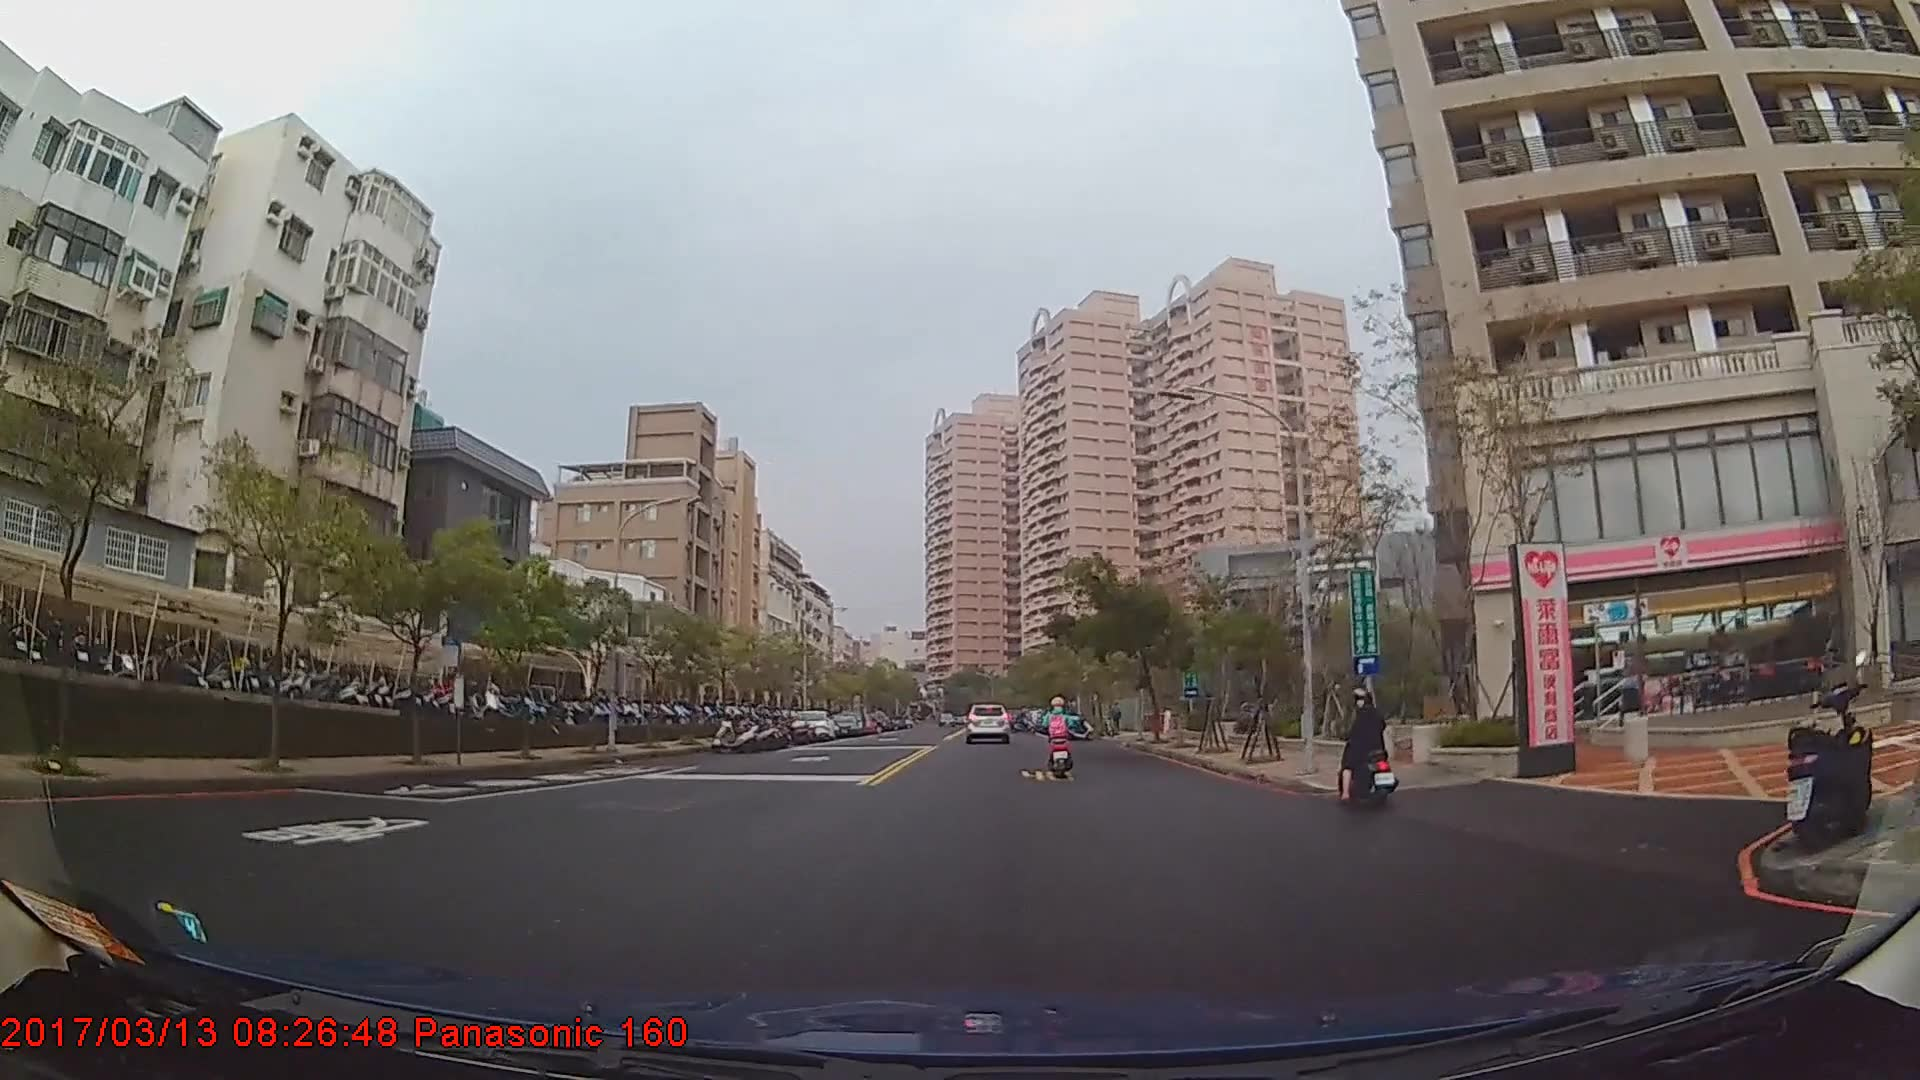rider: (1337, 689, 1405, 812), (1044, 694, 1080, 773)
vehicle: (962, 702, 1013, 741), (789, 712, 832, 743)
